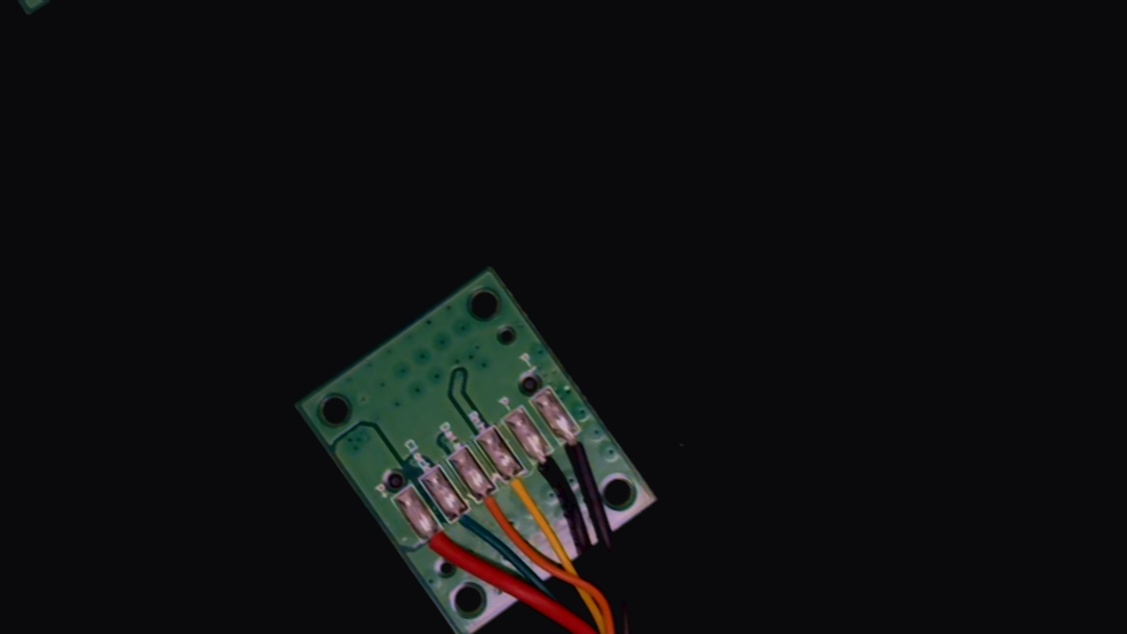Black: (522, 436, 575, 495)
Black1: (549, 414, 606, 479)
Green: (442, 497, 489, 552)
Orange: (467, 476, 519, 536)
Red: (411, 513, 470, 581)
Yellow: (493, 455, 555, 525)
